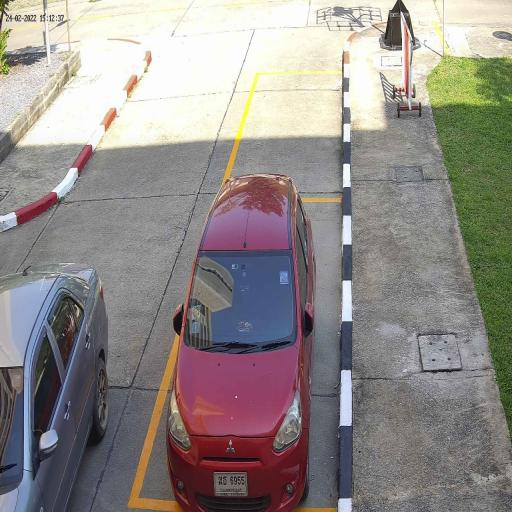car: (165, 170, 316, 512), (0, 261, 110, 512)
